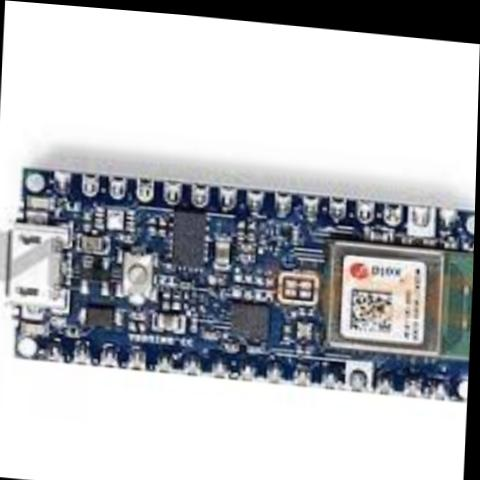Arduino-Nano: (0, 145, 477, 407)
